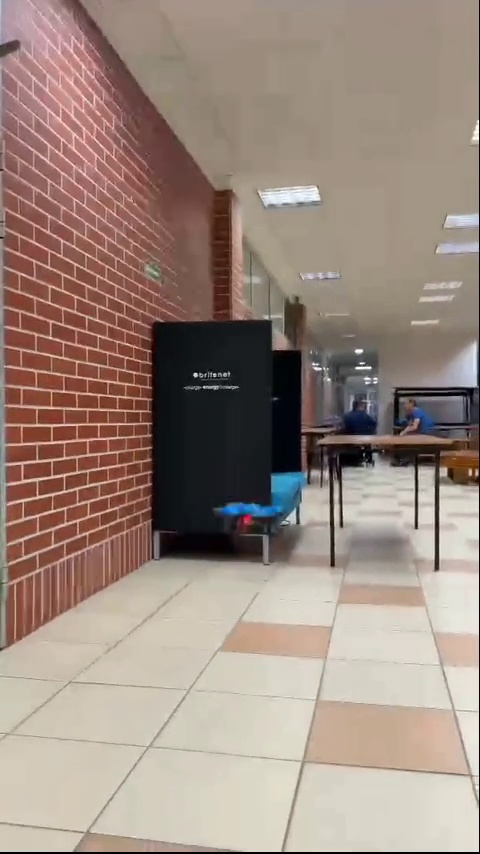drone: (213, 501, 287, 527)
no vest: (396, 388, 437, 439), (334, 396, 379, 441)
